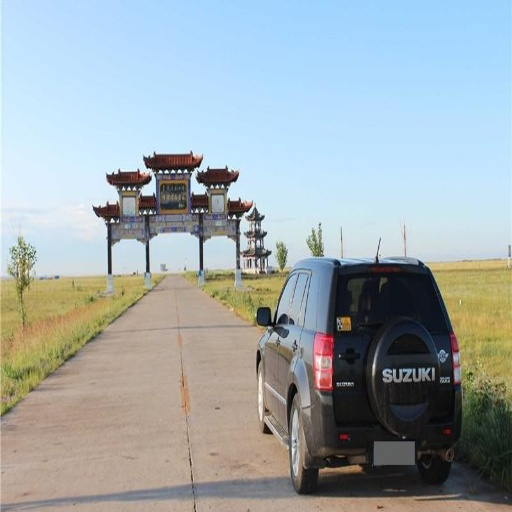back_glass: (331, 274, 434, 322)
trunk: (337, 328, 449, 423)
